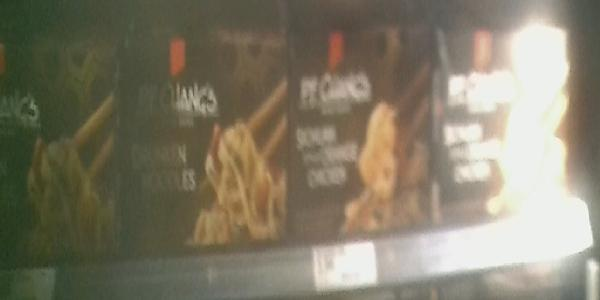pizza1: (126, 27, 288, 249), (291, 25, 439, 238), (1, 8, 126, 248), (445, 20, 578, 230)
